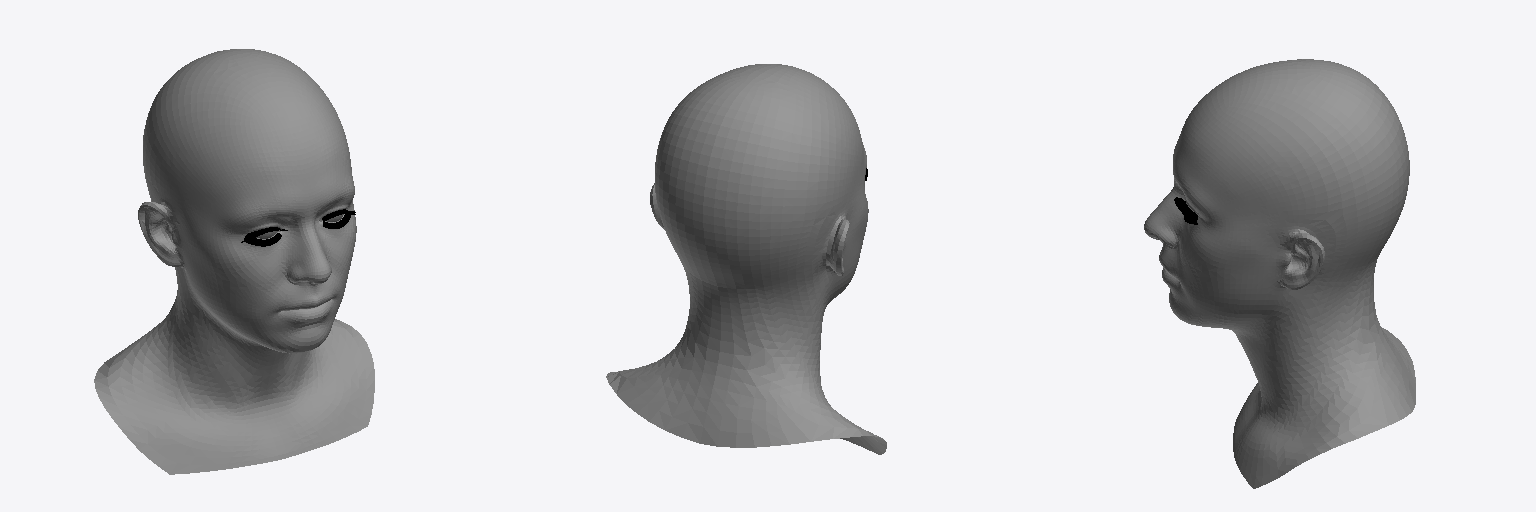
Rendered from identity077.obj.
3 renders of one model, left to right at view 1: azimuth 30°, elevation 25°; view 2: azimuth 150°, elevation 25°; view 3: azimuth 270°, elevation 25°, orthographic.
Size of the model in its own units: 24.84 by 33.82 by 22.27.